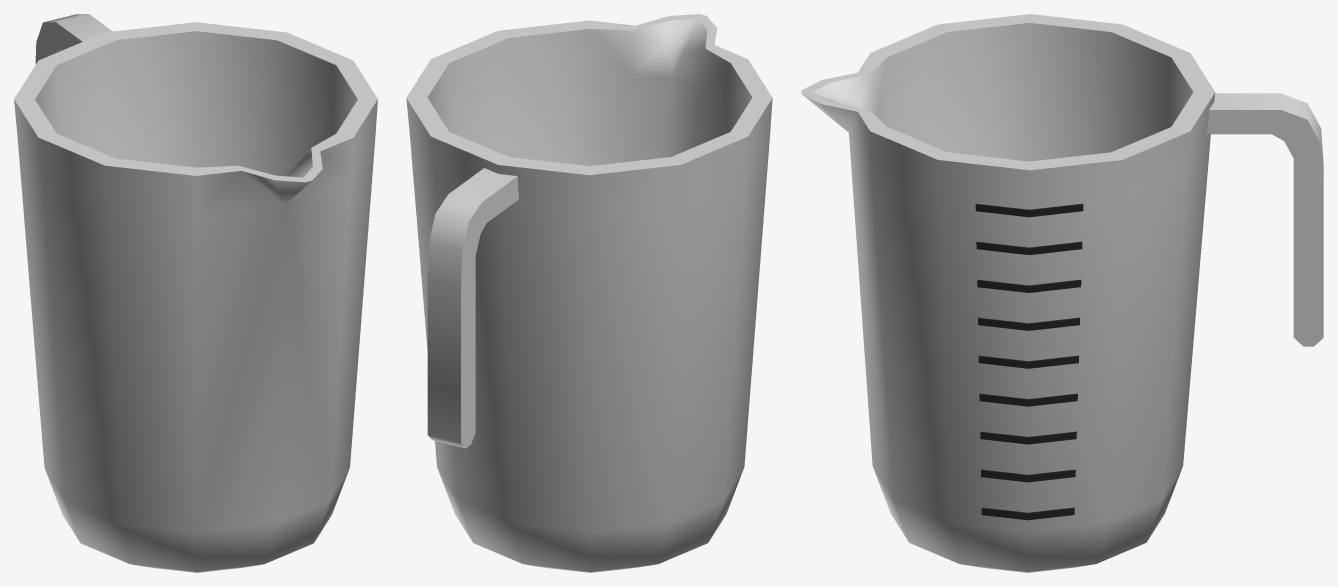
File: MeasuringCup_01.fbx
3 renders of one model, left to right at view 1: azimuth 30°, elevation 25°; view 2: azimuth 150°, elevation 25°; view 3: azimuth 270°, elevation 25°, orthographic.
Parts seen in each view (by area): view 1: MeasuringCup_01; view 2: MeasuringCup_01; view 3: MeasuringCup_01.
Part boxes in pixels (x1=…): MeasuringCup_01: x1=14, y1=14, x2=377, y2=572; MeasuringCup_01: x1=406, y1=14, x2=772, y2=572; MeasuringCup_01: x1=801, y1=14, x2=1323, y2=572.
Bounding box in the file's own units: 0.1075 × 0.1415 × 0.1517.
